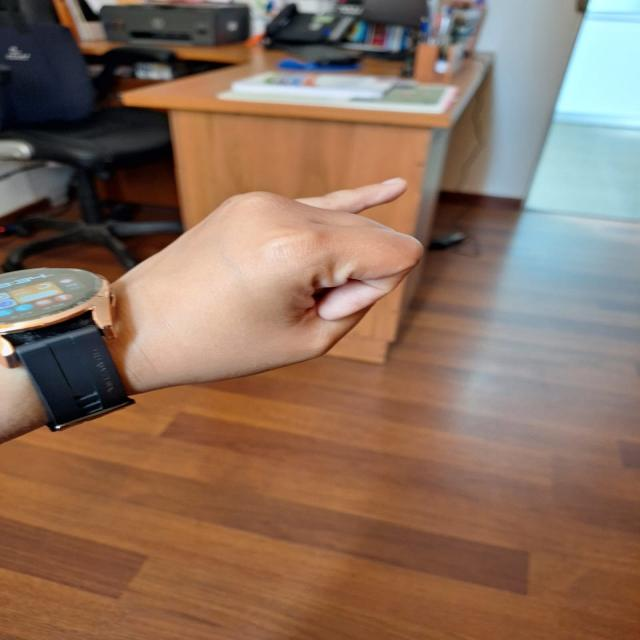Z: (144, 172, 438, 392)
